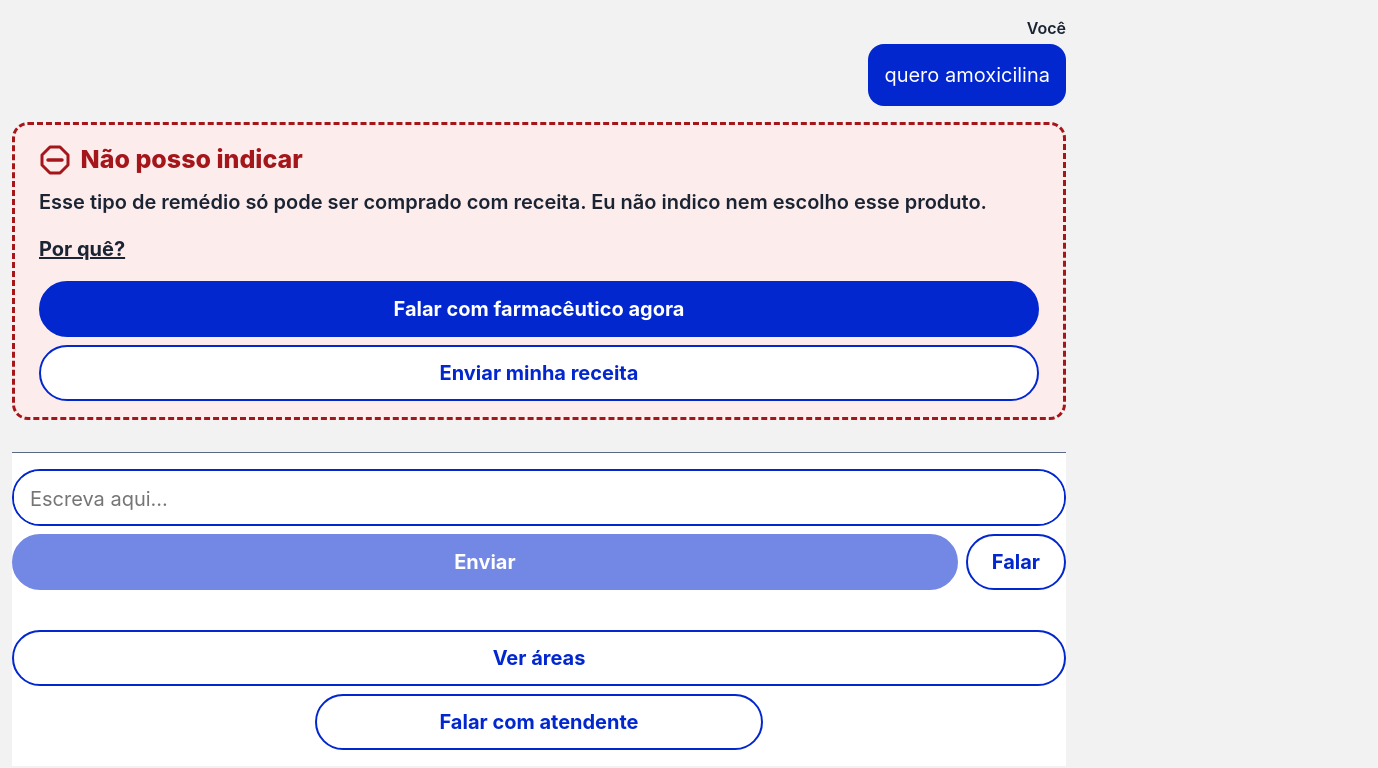
it: Conversa guiada › o farmacêutico responde como "informação não confirmada" (honestidade sobre a simulação)
Click the button "Falar com farmacêutico agora" at (539, 308), box x1=39 y1=280 x2=1039 y2=336
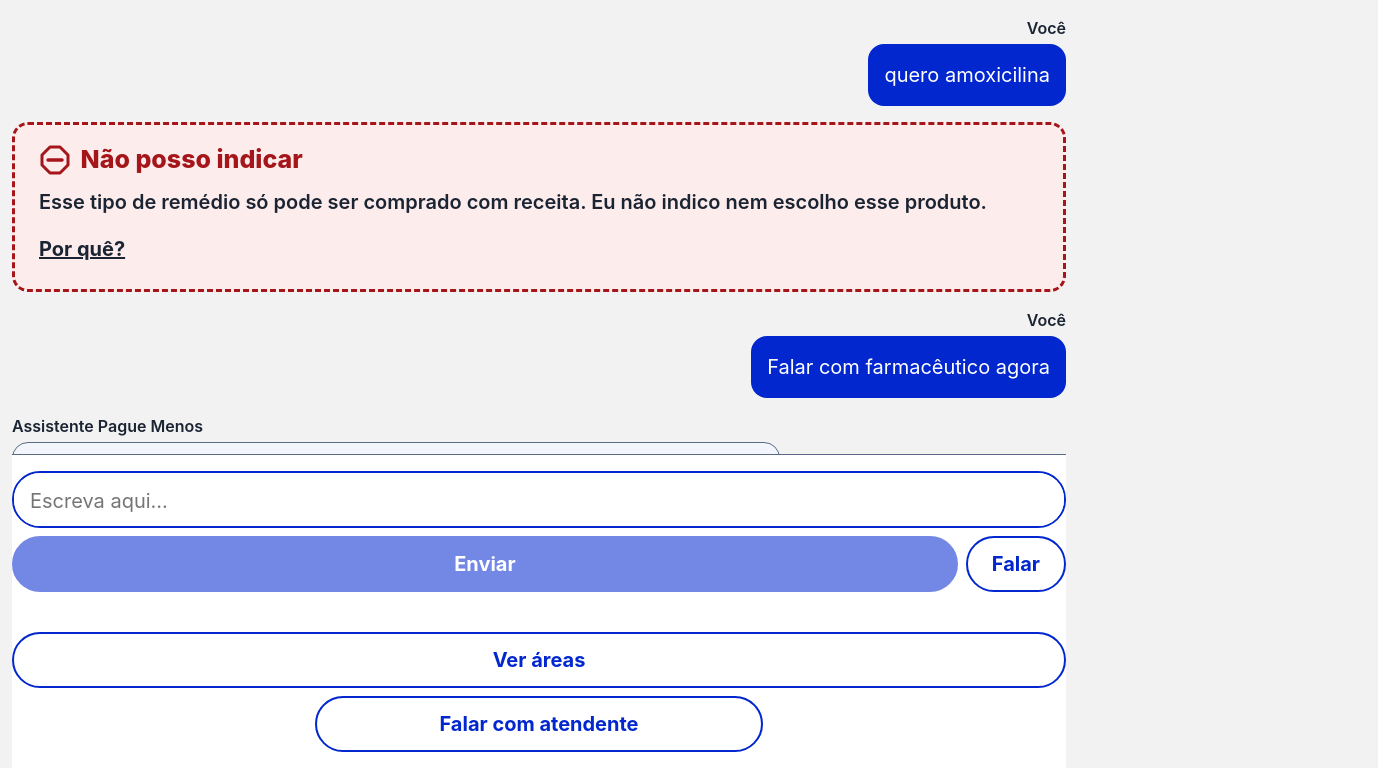
Expected: the text "conexão é simulada" is shown, x1=29 y1=462 x2=760 y2=516
